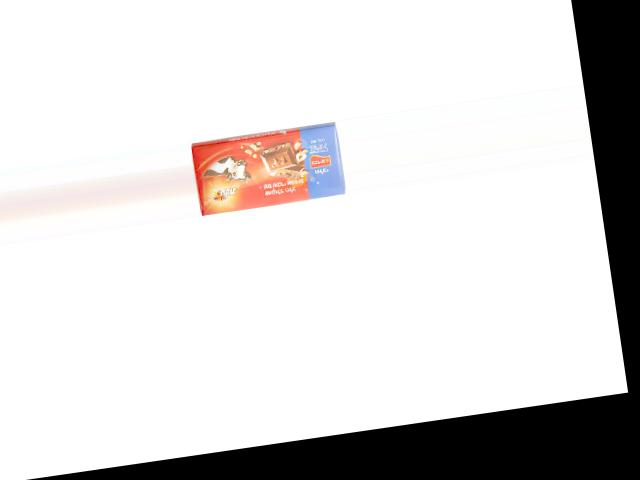chocolate: (189, 122, 346, 215)
